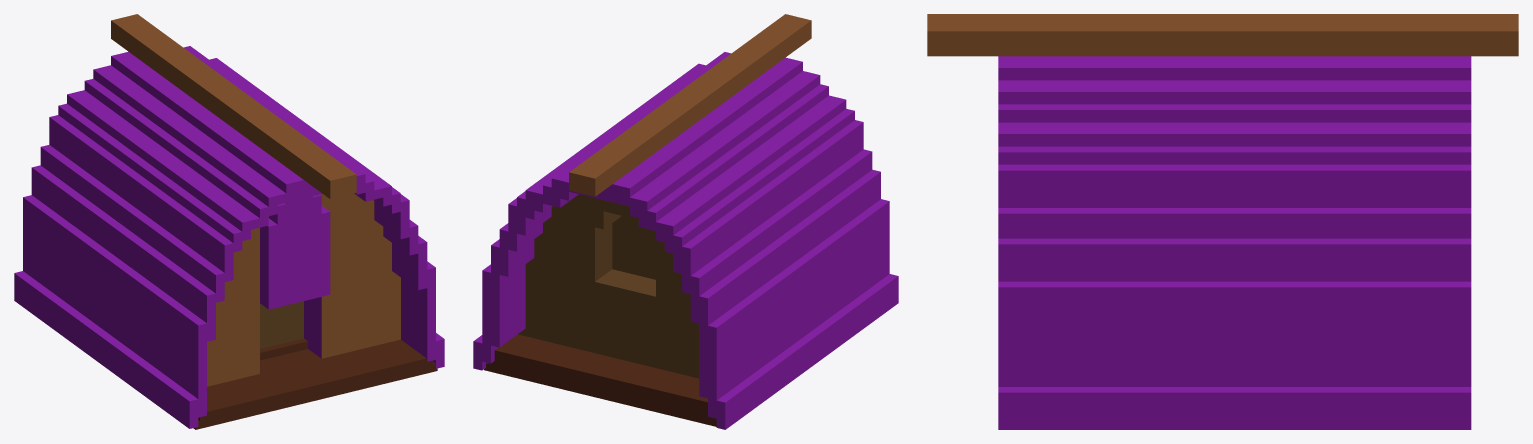
The model's file is Миролюбы.fbx.
The picture shows the model from 3 angles, left to right: view 1: azimuth 30°, elevation 25°; view 2: azimuth 150°, elevation 25°; view 3: azimuth 270°, elevation 25°; orthographic projection. The views are drawn at different scales.
Parts seen in each view (by area): view 1: Cube, Cube.001; view 2: Cube, Cube.001; view 3: Cube.
Boxes of the visible parts, box(x1,y1,x2,y2) form: Cube: box(14, 14, 444, 428); Cube.001: box(193, 338, 437, 429); Cube: box(473, 14, 898, 429); Cube.001: box(484, 334, 716, 426); Cube: box(927, 14, 1518, 429).
Bounding box in the file's own units: 291 × 264 × 433.
